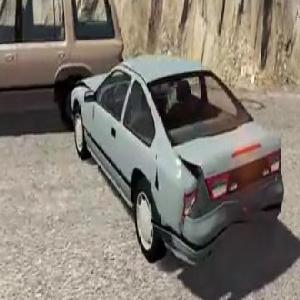minor: (0, 0, 289, 279)
